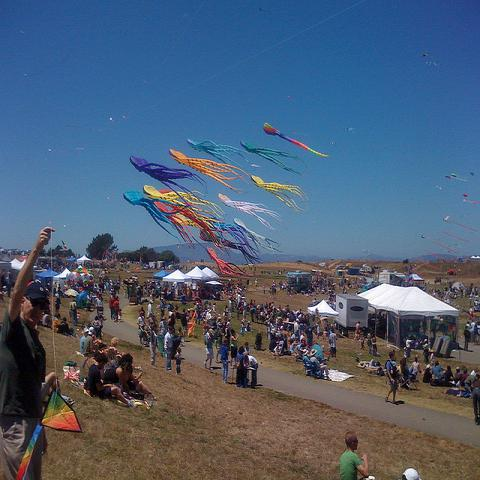truck: (333, 294, 368, 337)
